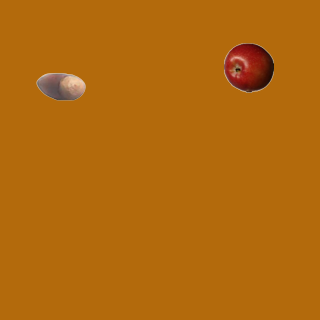Apple Braeburn: (223, 42, 273, 92)
Hazelnut: (35, 61, 85, 111)
